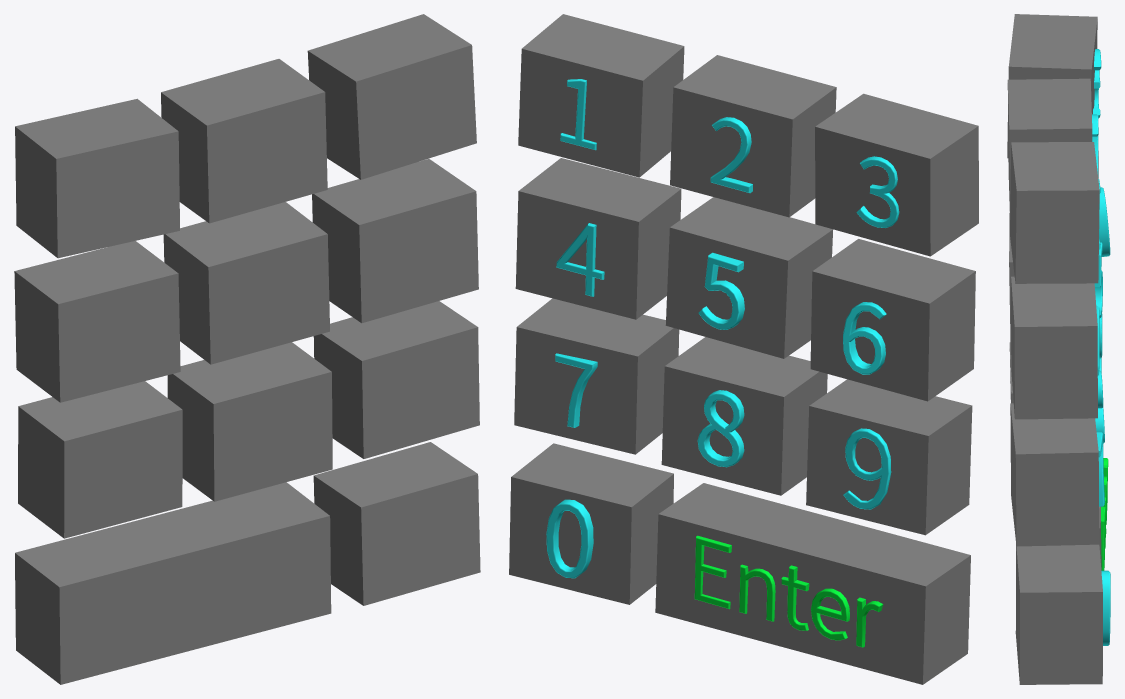
Rendered from Basic digit lock 1 body buttons.fbx.
3 renders of one model, left to right at view 1: azimuth 30°, elevation 25°; view 2: azimuth 150°, elevation 25°; view 3: azimuth 270°, elevation 25°, orthographic. The views are drawn at different scales.
Parts seen in each view (by area): view 1: bade4de6-692b-4606-adf5-0408f787e8b9; view 2: bade4de6-692b-4606-adf5-0408f787e8b9; view 3: bade4de6-692b-4606-adf5-0408f787e8b9.
Boxes of the visible parts, left/top/right/bottom form: bade4de6-692b-4606-adf5-0408f787e8b9: left=14, top=14, right=480, bottom=684; bade4de6-692b-4606-adf5-0408f787e8b9: left=509, top=14, right=978, bottom=684; bade4de6-692b-4606-adf5-0408f787e8b9: left=1007, top=14, right=1110, bottom=684.
Size of the model in its own units: 9270 by 11239 by 2113.
